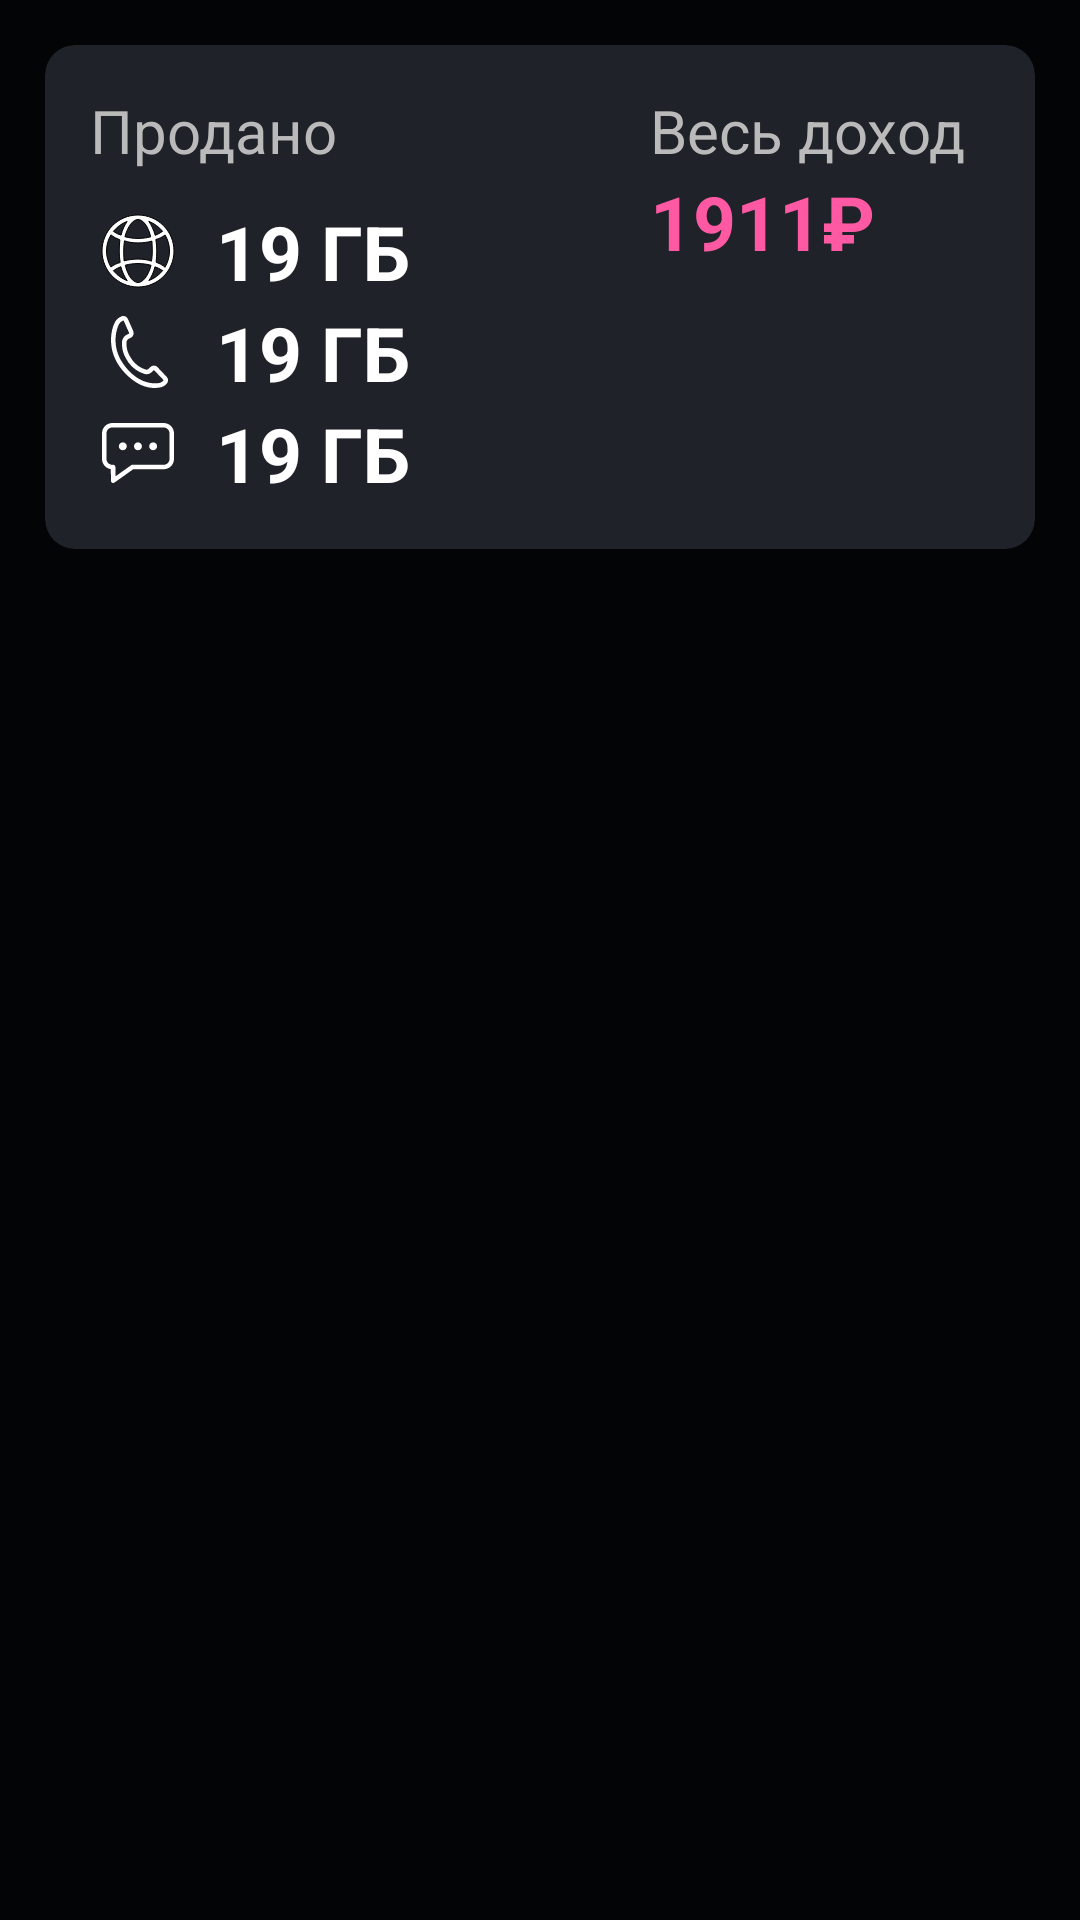

Icon click points for this 1080 × 1920 phone screenshot, format point (x, y):
call empty: point (139, 352)
internet: point (138, 251)
messages: point (138, 453)
